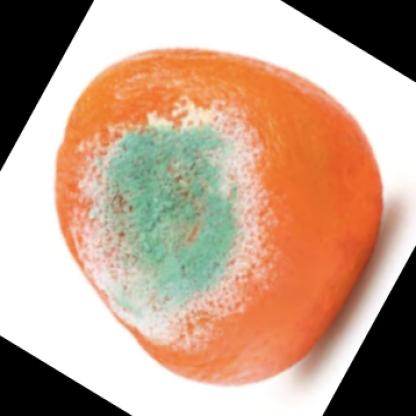rotten: (56, 47, 384, 390)
